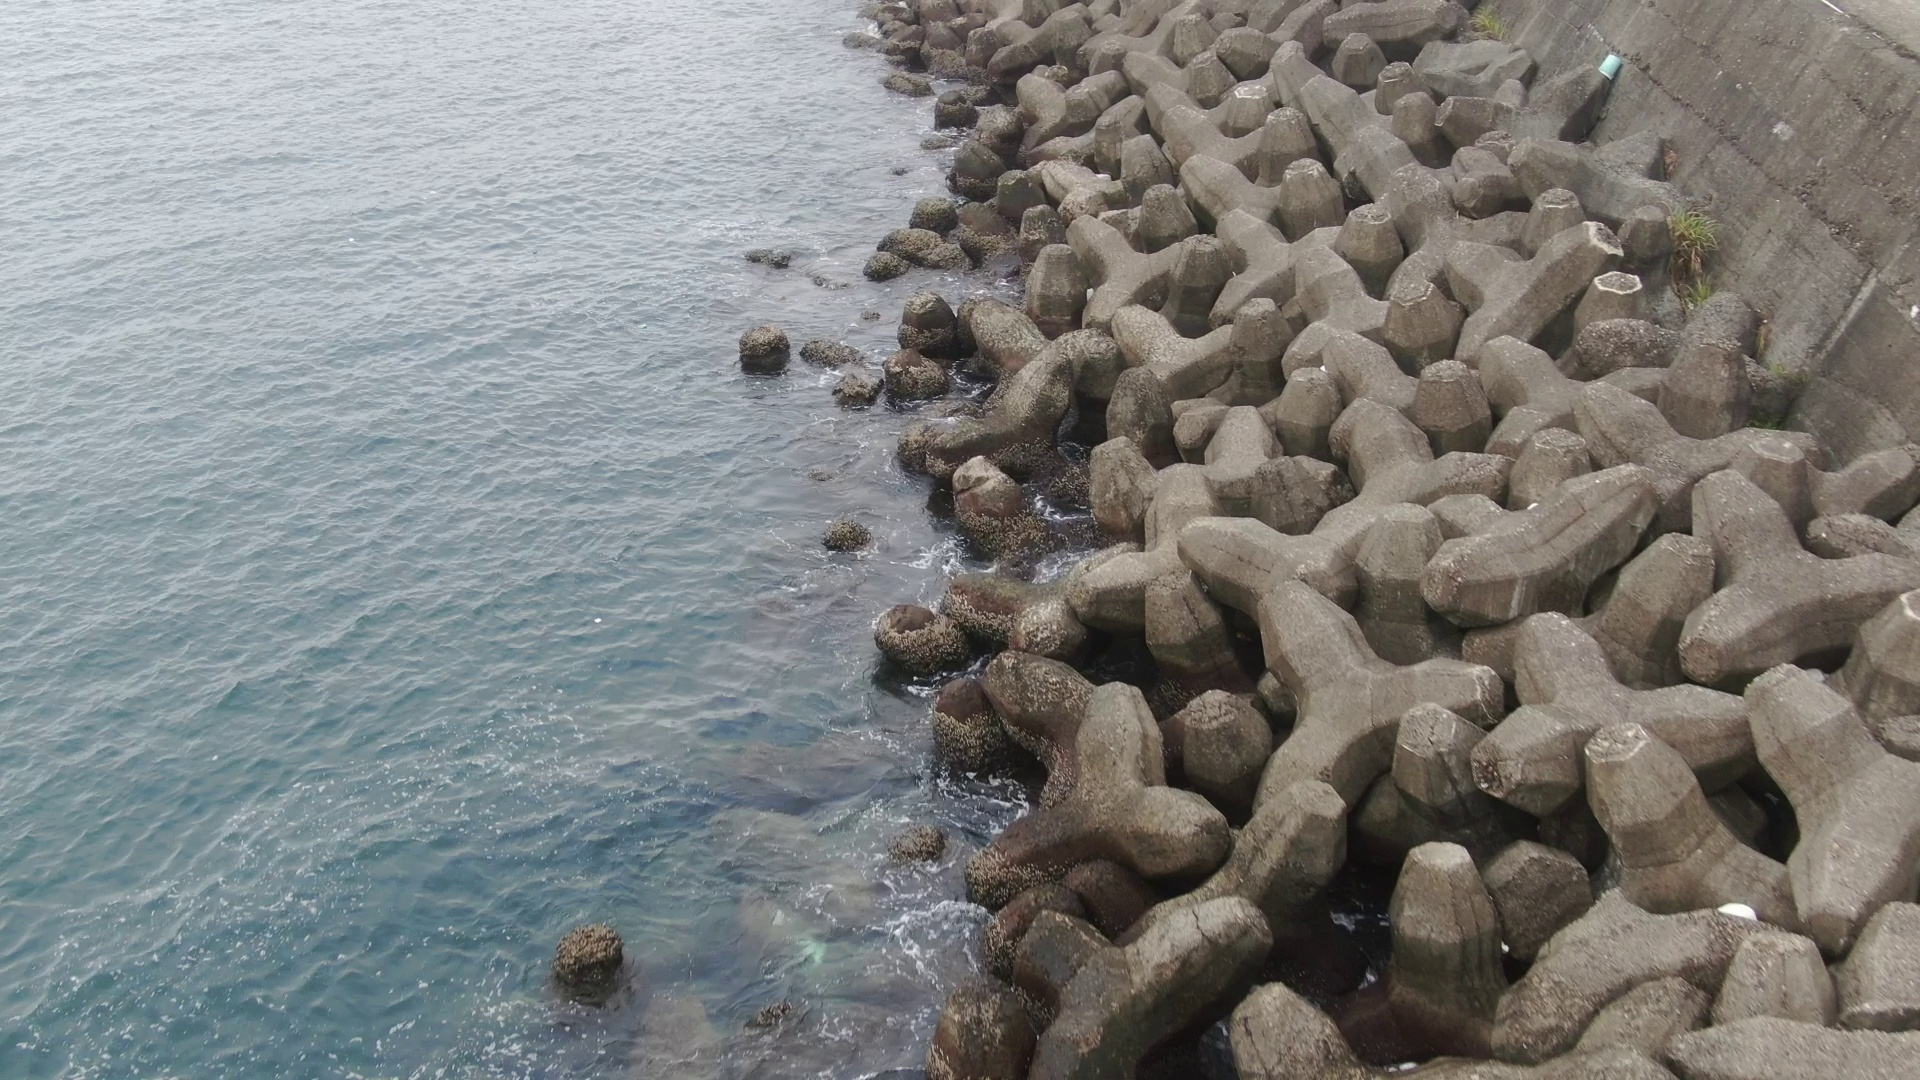garbage: (1714, 894, 1768, 922), (1600, 47, 1621, 84)
